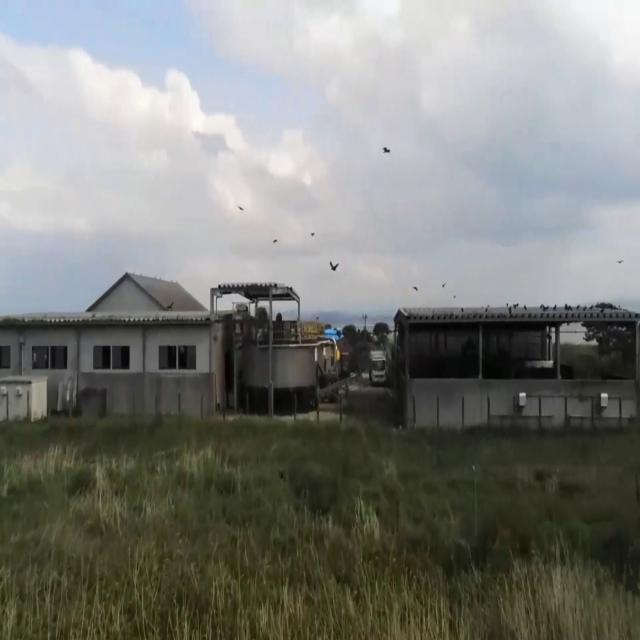bird: (328, 252, 340, 283), (382, 138, 390, 162), (237, 197, 244, 218)
